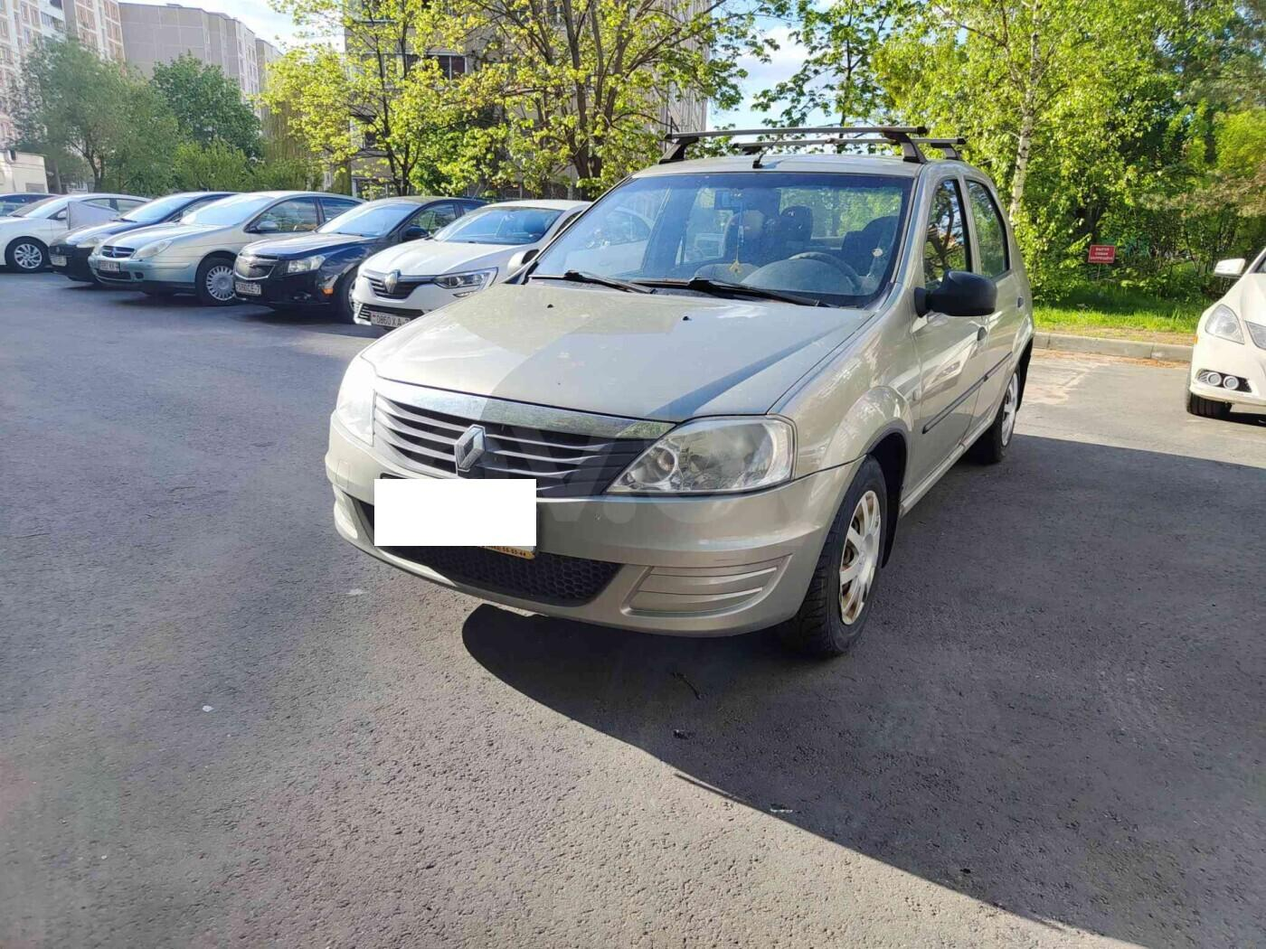Logan_2008-2015: (324, 142, 1046, 664)
